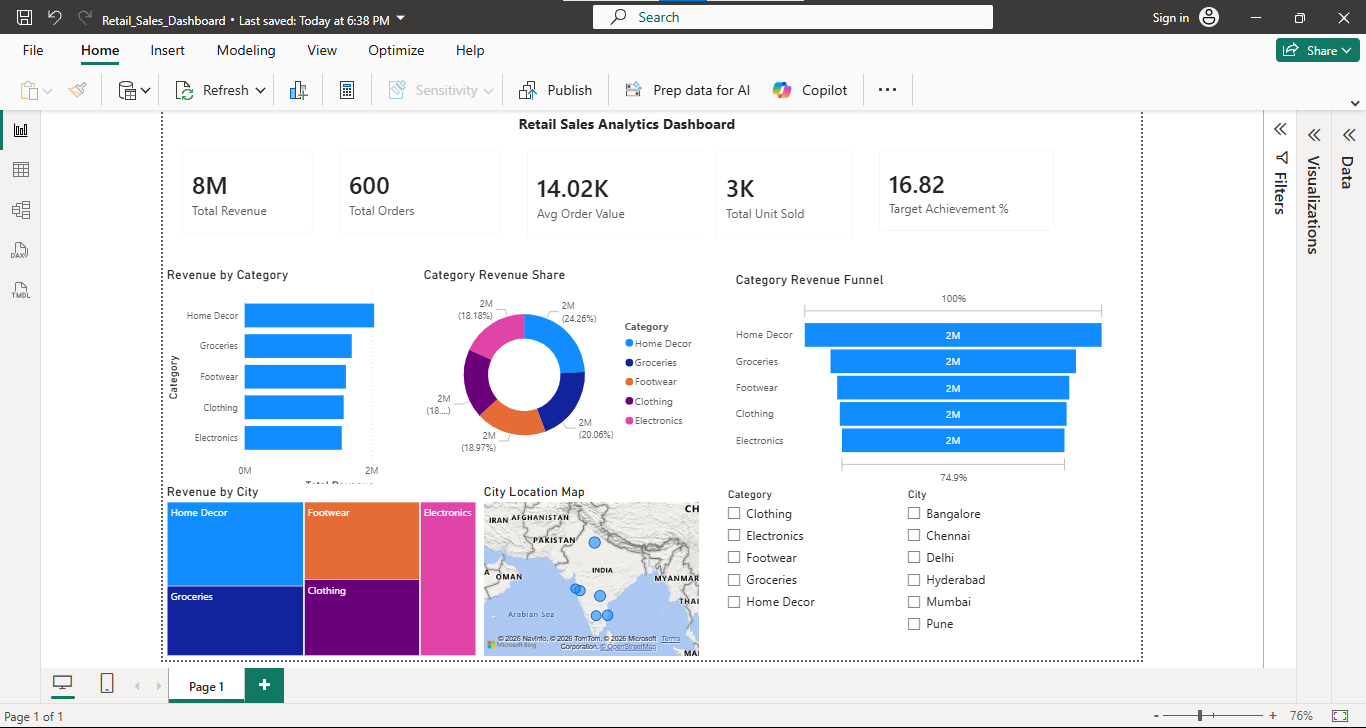

What the dashboard file says about the page in this screenshot:
{"tool":"powerbi","page":{"name":"Page 1","canvas":[1280,720],"ordinal":0},"visuals":[{"type":"cardVisual","fields":{"Data":["cleaned_retail_sales_2026.Total Revenue"]},"box":[8.3,35,205,143.3],"z":0},{"type":"cardVisual","fields":{"Data":["cleaned_retail_sales_2026.Total Orders"]},"box":[213.3,35,246.7,143.3],"z":1000},{"type":"cardVisual","fields":{"Data":["cleaned_retail_sales_2026.Avg Order Value"]},"box":[460,35,266.7,151.7],"z":2000},{"type":"cardVisual","fields":{"Data":["cleaned_retail_sales_2026.Total Unit Sold"]},"box":[706.7,35,213.3,151.7],"z":3000},{"type":"cardVisual","fields":{"Data":["cleaned_retail_sales_2026.Target Achievement %"]},"box":[920,35,263.3,140],"z":4000},{"type":"clusteredBarChart","title":"Revenue by Category","fields":{"Category":["cleaned_retail_sales_2026.Category"],"Y":["cleaned_retail_sales_2026.Total Revenue"]},"box":[0,205,370,298.3],"z":5000},{"type":"donutChart","title":" Category Revenue Share","fields":{"Category":["cleaned_retail_sales_2026.Category"],"Y":["cleaned_retail_sales_2026.Total Revenue"]},"box":[336.7,205,370,263.3],"z":6000},{"type":"funnel","title":"Category Revenue Funnel","fields":{"Category":["cleaned_retail_sales_2026.Category"],"Y":["cleaned_retail_sales_2026.Total Revenue"]},"box":[744.5,211.7,493.9,283.7],"z":7000},{"type":"treemap","title":"Revenue by City ","fields":{"Group":["cleaned_retail_sales_2026.Category"],"Values":["cleaned_retail_sales_2026.Total Revenue"]},"box":[0,490,415,230],"z":8000},{"type":"map","title":"City Location Map","fields":{"Category":["cleaned_retail_sales_2026.City"],"Size":["cleaned_retail_sales_2026.Total Revenue"]},"box":[415,490,292,230],"z":9000},{"type":"slicer","fields":{"Values":["cleaned_retail_sales_2026.Category"]},"box":[726.7,490,235,230],"z":10000},{"type":"slicer","fields":{"Values":["cleaned_retail_sales_2026.City"]},"box":[961.7,490,201.7,230],"z":11000},{"type":"textbox","box":[150,0,913.3,35],"z":12000}]}

Visuals, with their boxes on the page's 1280x720 design canvas (x1, y1, x2, y2). These are canvas units, not pixel positions in the 1366x728 screenshot, which may show the page scaled, cropped or inside an application window:
cardVisual - cleaned_retail_sales_2026.Total Revenue: crop(8, 35, 213, 178)
cardVisual - cleaned_retail_sales_2026.Total Orders: crop(213, 35, 460, 178)
cardVisual - cleaned_retail_sales_2026.Avg Order Value: crop(460, 35, 727, 187)
cardVisual - cleaned_retail_sales_2026.Total Unit Sold: crop(707, 35, 920, 187)
cardVisual - cleaned_retail_sales_2026.Target Achievement %: crop(920, 35, 1183, 175)
"Revenue by Category" clusteredBarChart: crop(0, 205, 370, 503)
" Category Revenue Share" donutChart: crop(337, 205, 707, 468)
"Category Revenue Funnel" funnel: crop(744, 212, 1238, 495)
"Revenue by City " treemap: crop(0, 490, 415, 720)
"City Location Map" map: crop(415, 490, 707, 720)
slicer - cleaned_retail_sales_2026.Category: crop(727, 490, 962, 720)
slicer - cleaned_retail_sales_2026.City: crop(962, 490, 1163, 720)
textbox: crop(150, 0, 1063, 35)
